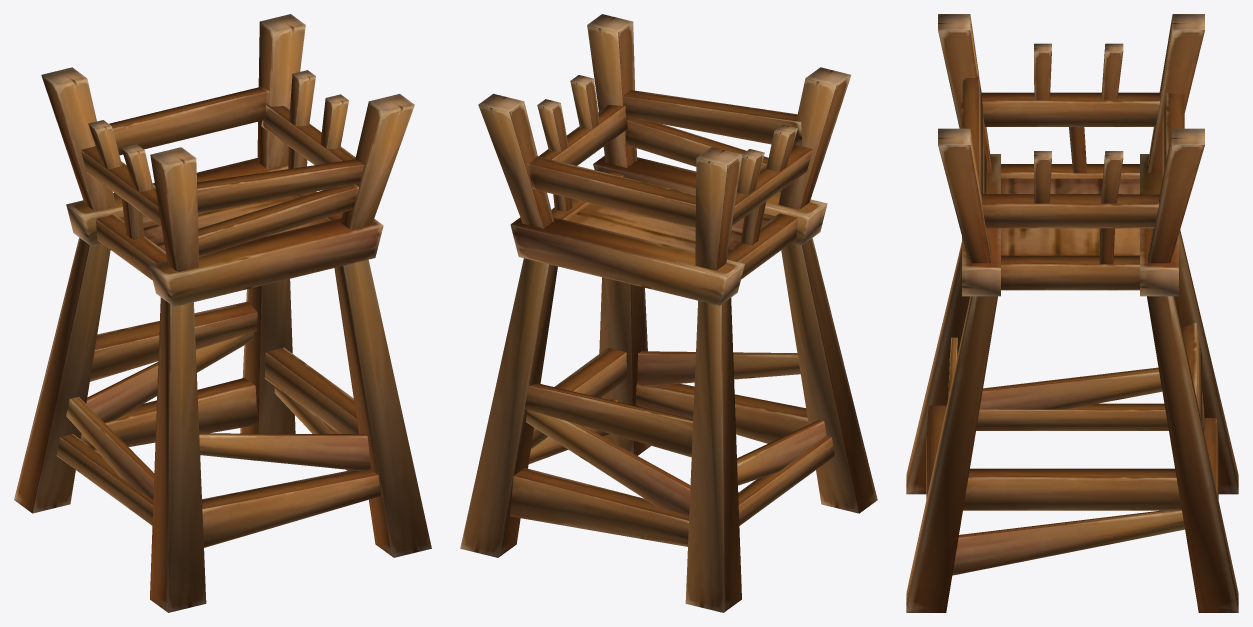
File: FH_Env_obj_12.FBX
The picture shows the model from 3 angles, left to right: view 1: azimuth 30°, elevation 25°; view 2: azimuth 150°, elevation 25°; view 3: azimuth 270°, elevation 25°; orthographic projection. The views are drawn at different scales.
Parts seen in each view (by area): view 1: Che_03; view 2: Che_03; view 3: Che_03.
Boxes of the visible parts, box(x1,y1,x2,y2) form: Che_03: box(14, 14, 431, 612); Che_03: box(460, 14, 877, 612); Che_03: box(906, 14, 1238, 612).
Bounding box in the file's own units: 52.05 × 81.82 × 52.8.
